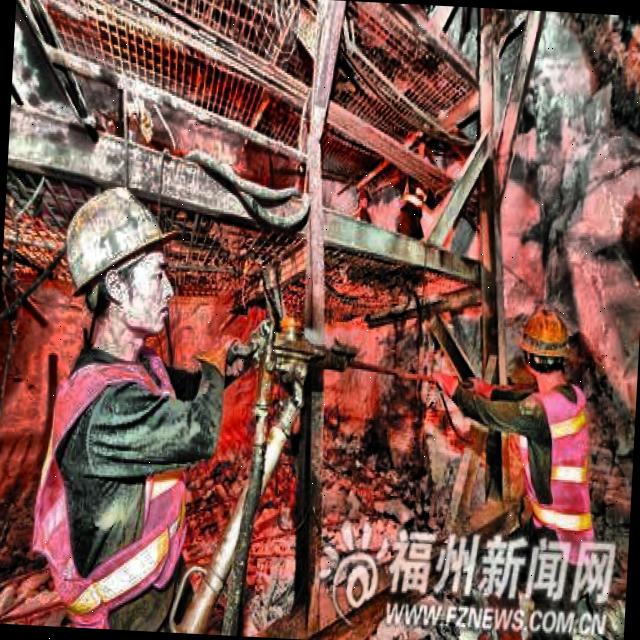helmet: (52, 171, 188, 350), (518, 301, 571, 386)
